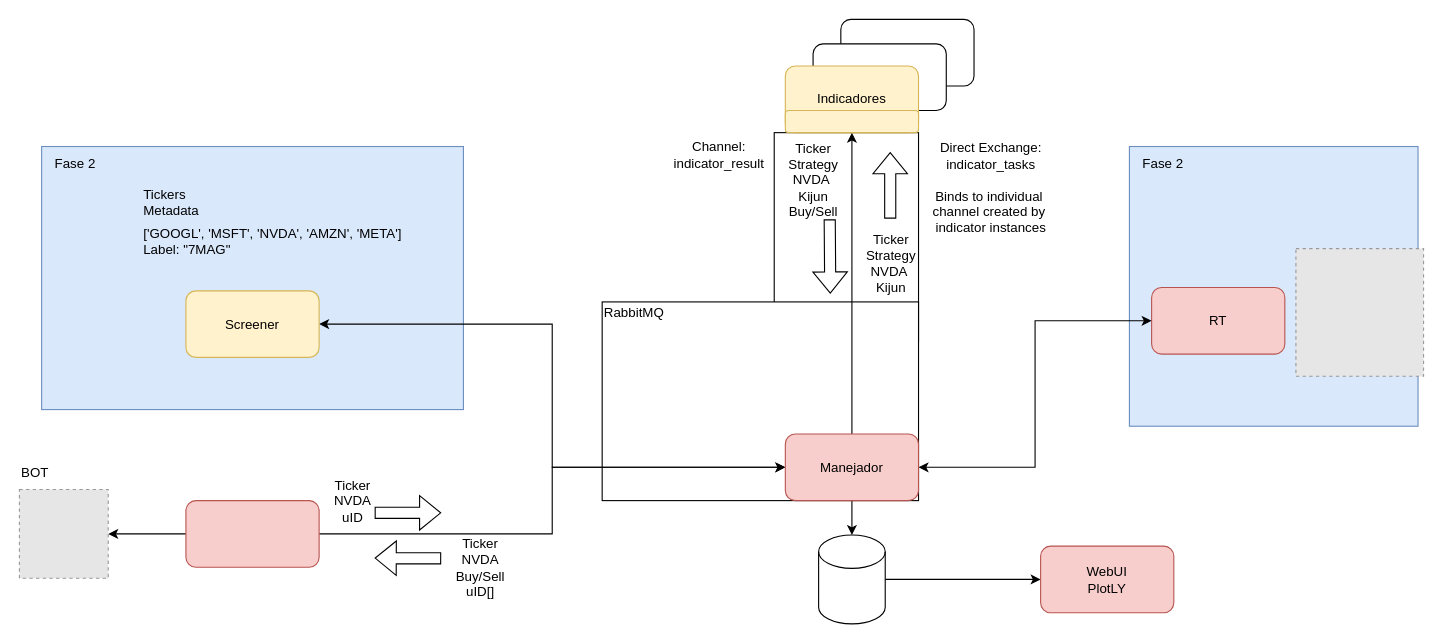
This 1443x644 diagram has some shape labels left out. Grey dashed boxes stand in for pictures. Here are the shapes that lost their labels. From the top down, the centre of each, then its label:
At (x=851, y=121): "Backtest".
At (x=252, y=533): "Telegram Interface".
At (x=851, y=579): "NoSQL".
